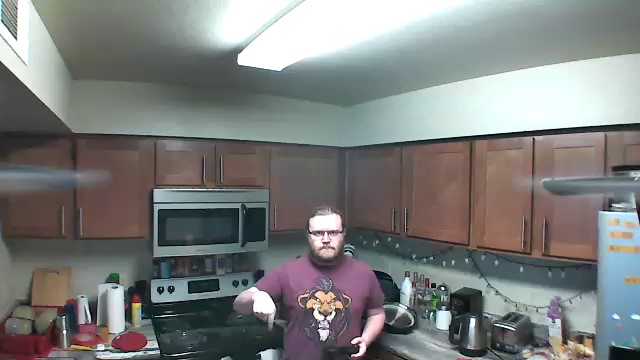down: (247, 286, 277, 333)
